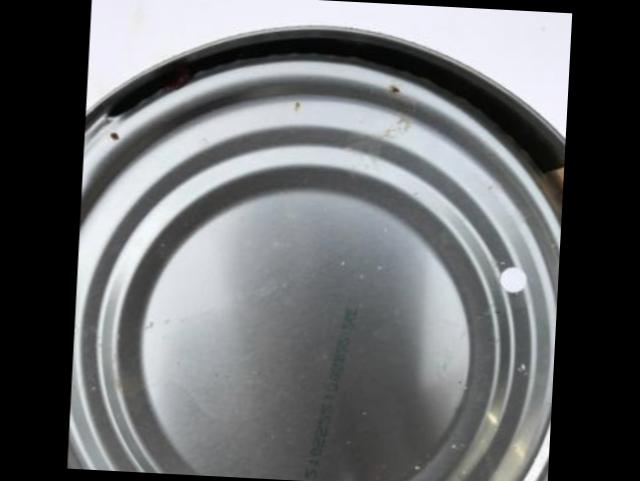metal: (67, 25, 566, 481)
